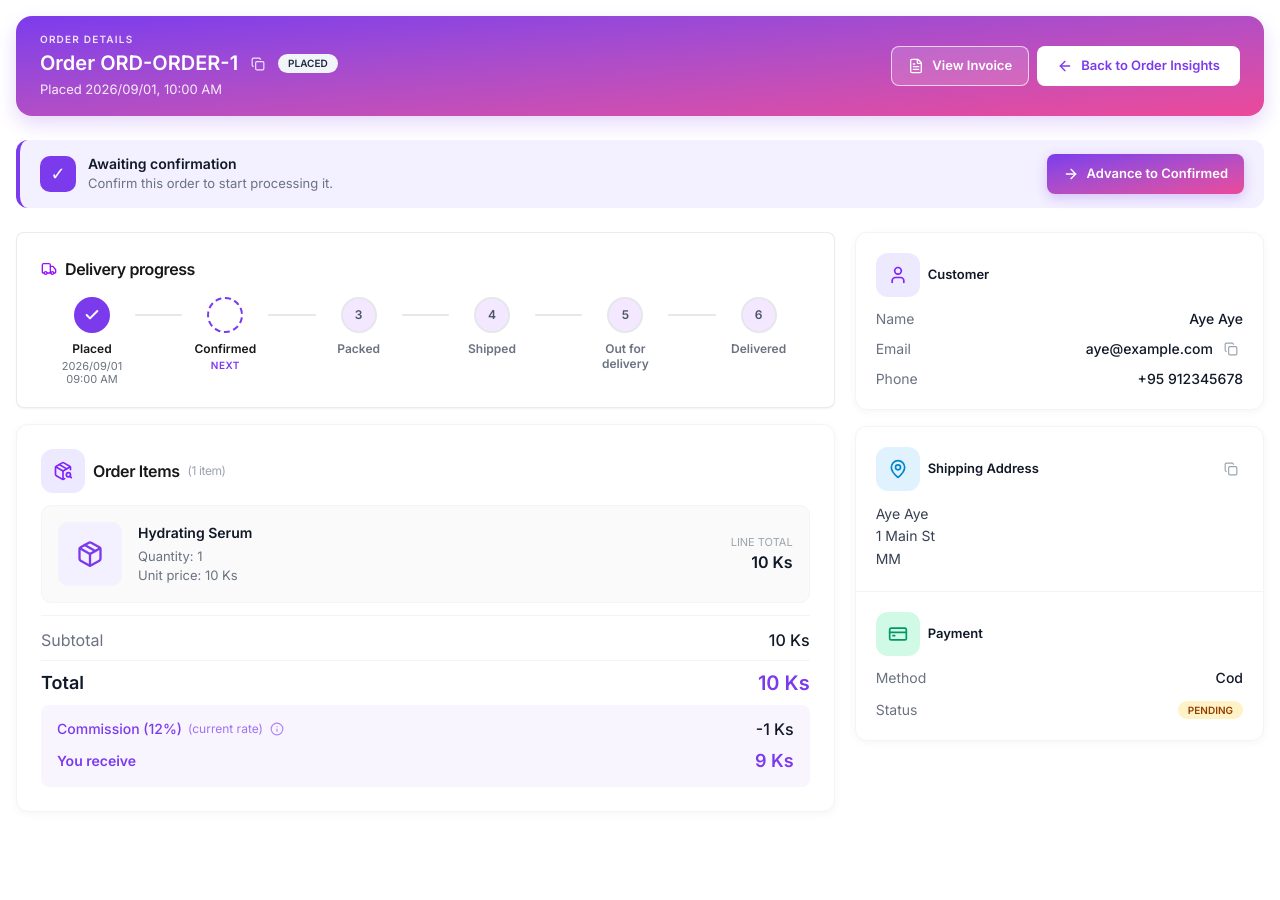
Scenario: MerchantOrderDetailPage › opens the invoice dialog with the order data already on the page
This screenshot has width=1280, height=900.
Click the button "View Invoice" at (960,66), box [891, 46, 1029, 86]
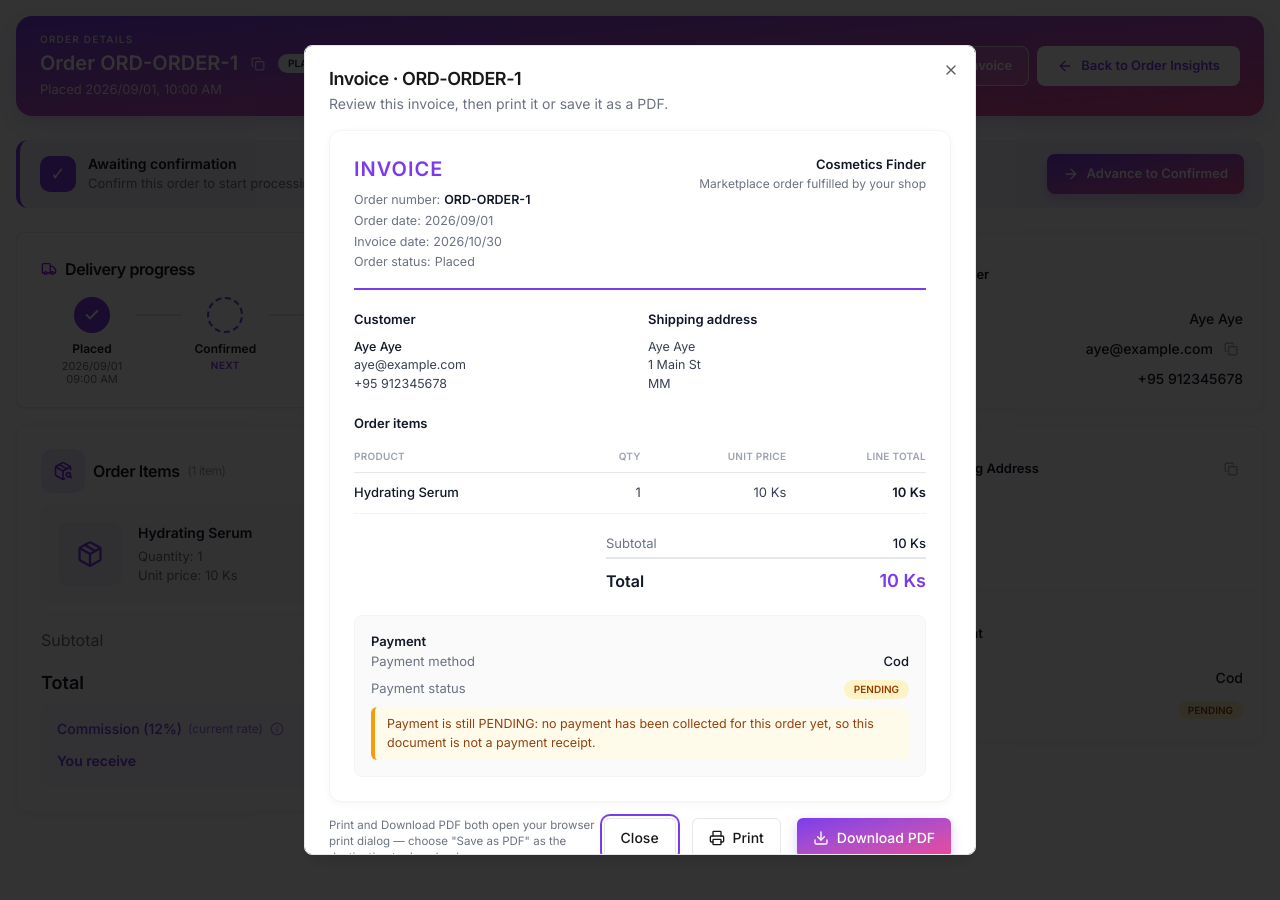
Now the text "ORD-ORDER-1" is shown, box [444, 191, 530, 210]
Now the text "Hydrating Serum" is shown, box [354, 473, 574, 513]
Now the text "1 Main St" is shown, box [648, 357, 701, 372]
